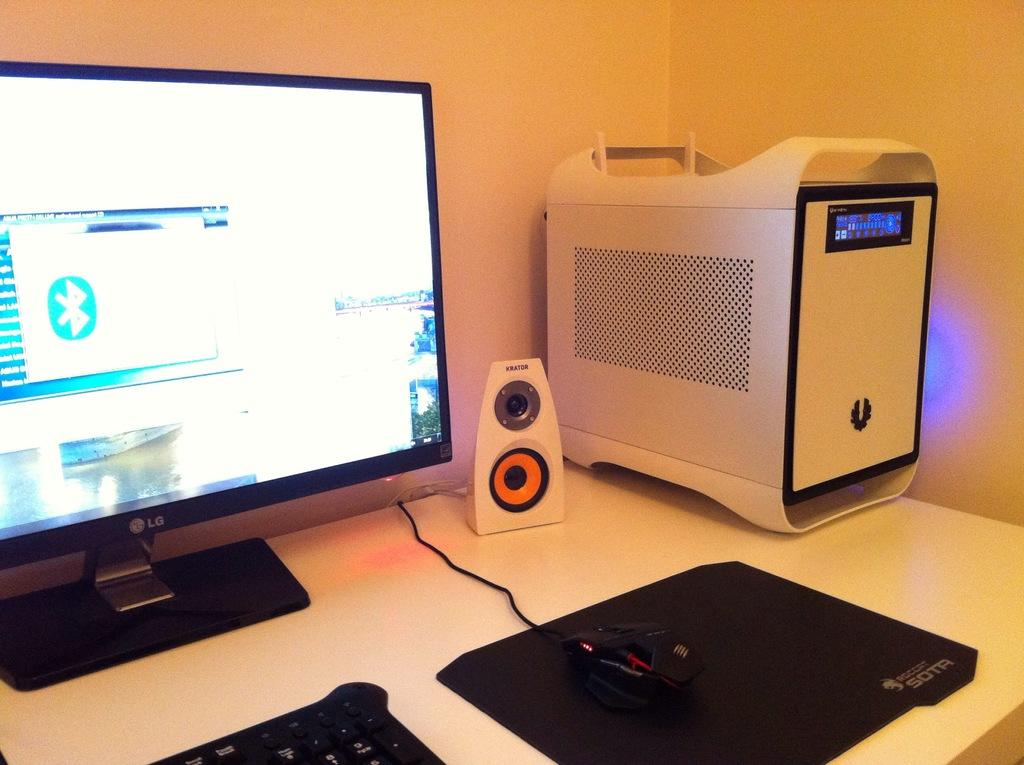Computer-keyboard: (143, 680, 453, 764)
Computer-monitor: (13, 69, 460, 658)
Computer-mouse: (562, 623, 700, 707)
